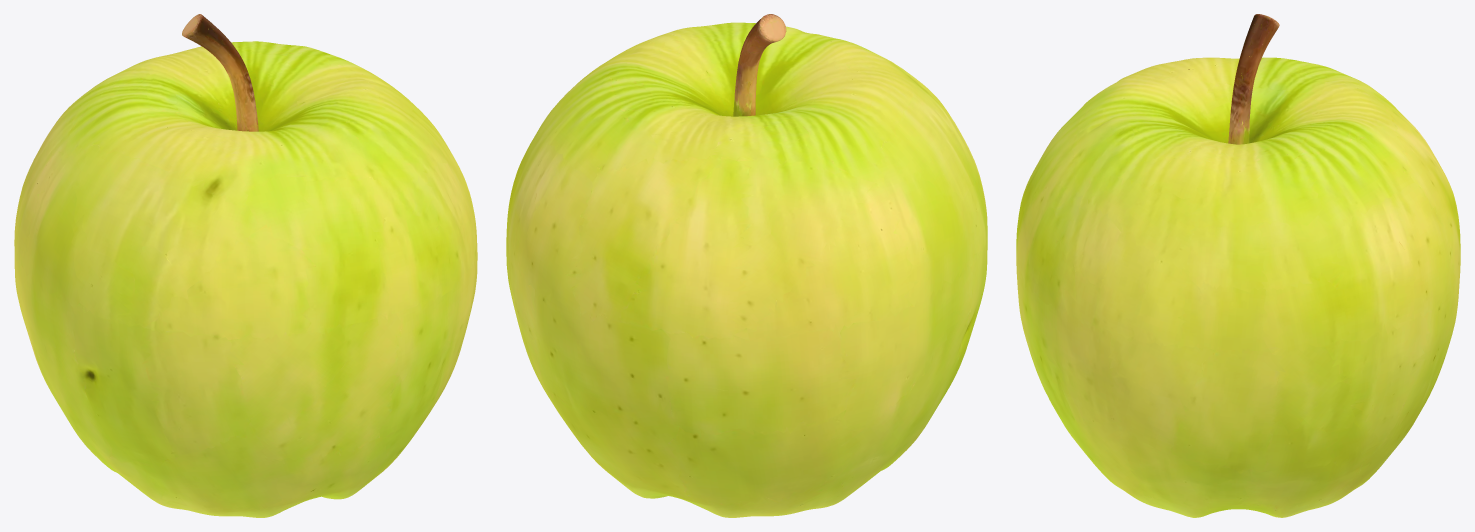
The model's file is kitchen-apple-08.glb.
3 views of the same model, side by side, from view 1: azimuth 30°, elevation 25°; view 2: azimuth 150°, elevation 25°; view 3: azimuth 270°, elevation 25° (orthographic). The views are drawn at different scales.
Size of the model in its own units: 1.72 by 1.9 by 1.72.
1 material, 1 textured.
